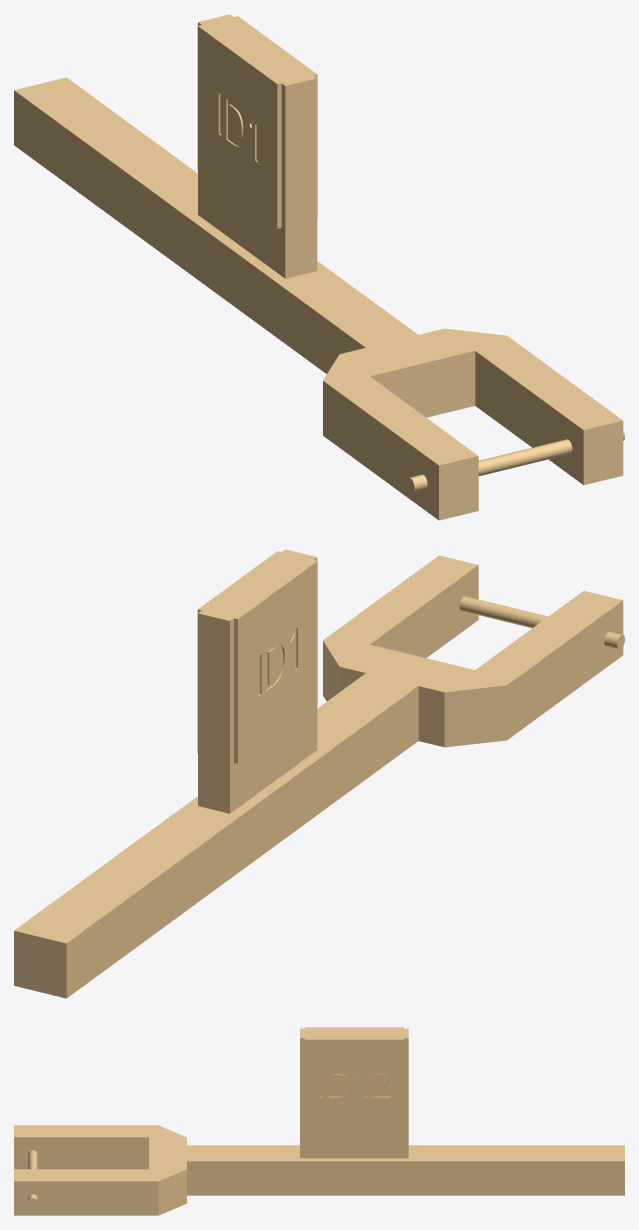
File: BLOCK CAD FIELD - BLOCK CAD- TRENCH, HINGED ARM, RED.gltf
3 views of the same model, one above another, from view 1: azimuth 30°, elevation 25°; view 2: azimuth 150°, elevation 25°; view 3: azimuth 270°, elevation 25° (orthographic). The views are drawn at different scales.
Visible parts, largest first — view 1: BLOCK CAD: TRENCH, HINGED ARM, RED; view 2: BLOCK CAD: TRENCH, HINGED ARM, RED; view 3: BLOCK CAD: TRENCH, HINGED ARM, RED.
Boxes of the visible parts, x1,y1,x2,y2 form: BLOCK CAD: TRENCH, HINGED ARM, RED: (14,14,624,520); BLOCK CAD: TRENCH, HINGED ARM, RED: (14,549,624,998); BLOCK CAD: TRENCH, HINGED ARM, RED: (14,1027,624,1215).
Size of the model in its own units: 0.4064 by 0.4572 by 1.64.
